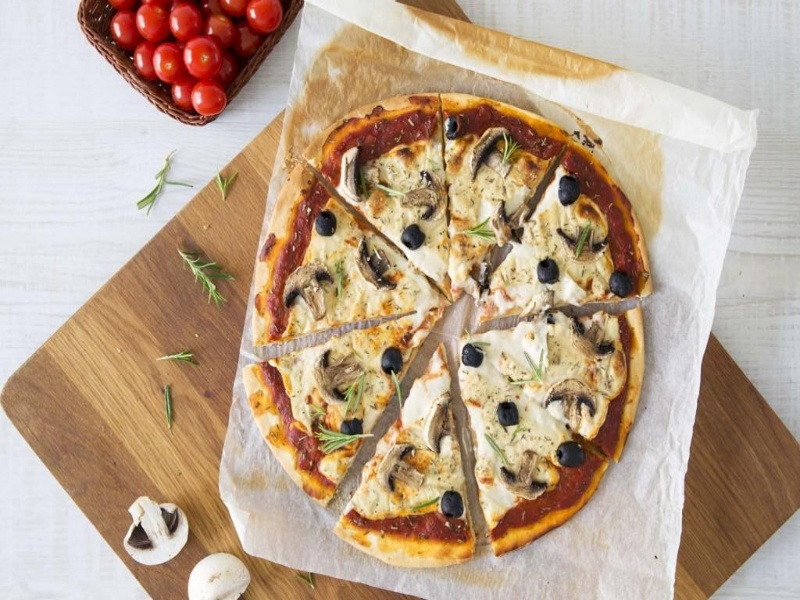champignon: (371, 436, 433, 506), (279, 260, 343, 327), (490, 444, 549, 513), (541, 373, 605, 433), (310, 346, 366, 408), (352, 237, 404, 303), (467, 121, 517, 187), (562, 313, 622, 368), (422, 387, 461, 461), (337, 141, 379, 207)
olive: (490, 394, 529, 431), (377, 342, 409, 386), (432, 485, 468, 524), (552, 175, 593, 209), (600, 267, 641, 301), (551, 441, 594, 472), (309, 208, 346, 243), (529, 257, 570, 287), (331, 420, 373, 449), (400, 223, 431, 254), (459, 341, 490, 370)
